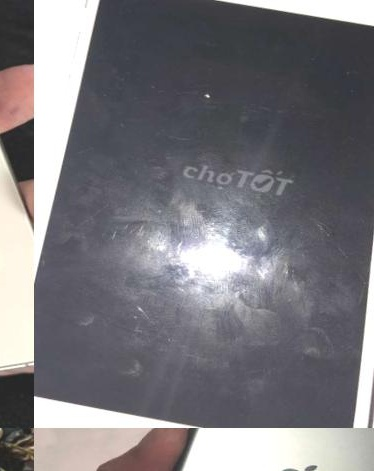scratch: (73, 406, 114, 428)
